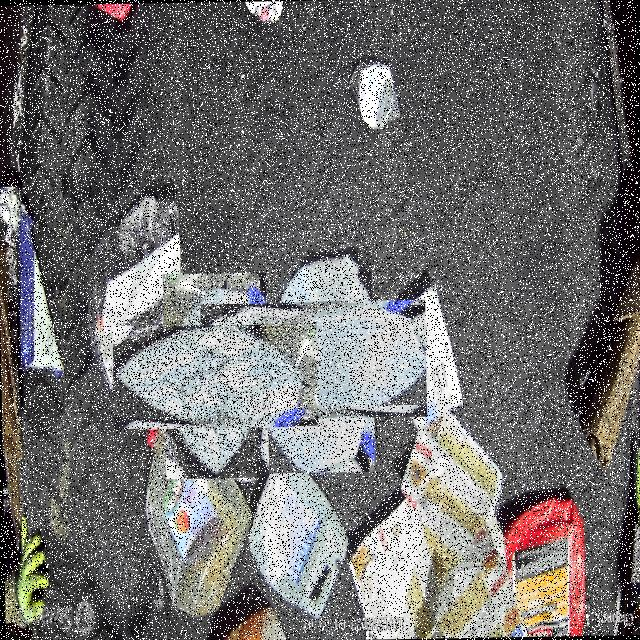milk-jug: (226, 273, 400, 447), (136, 297, 294, 454)
